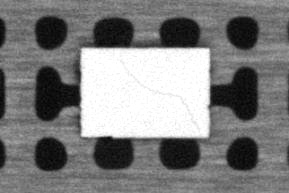DIE_CRACK: (119, 61, 201, 132)
